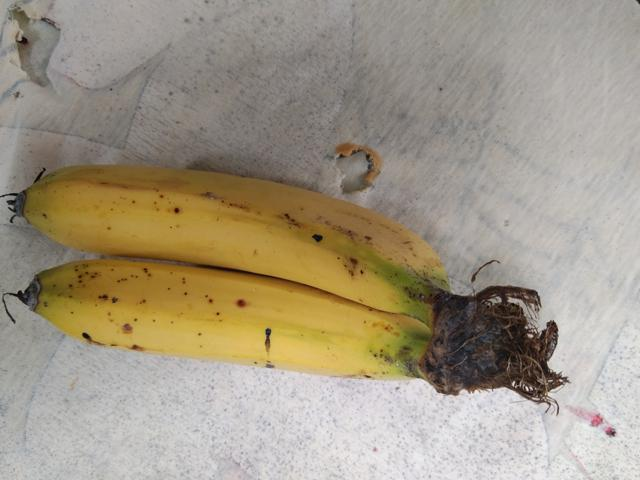ripe: (17, 153, 443, 315), (7, 242, 413, 387)
